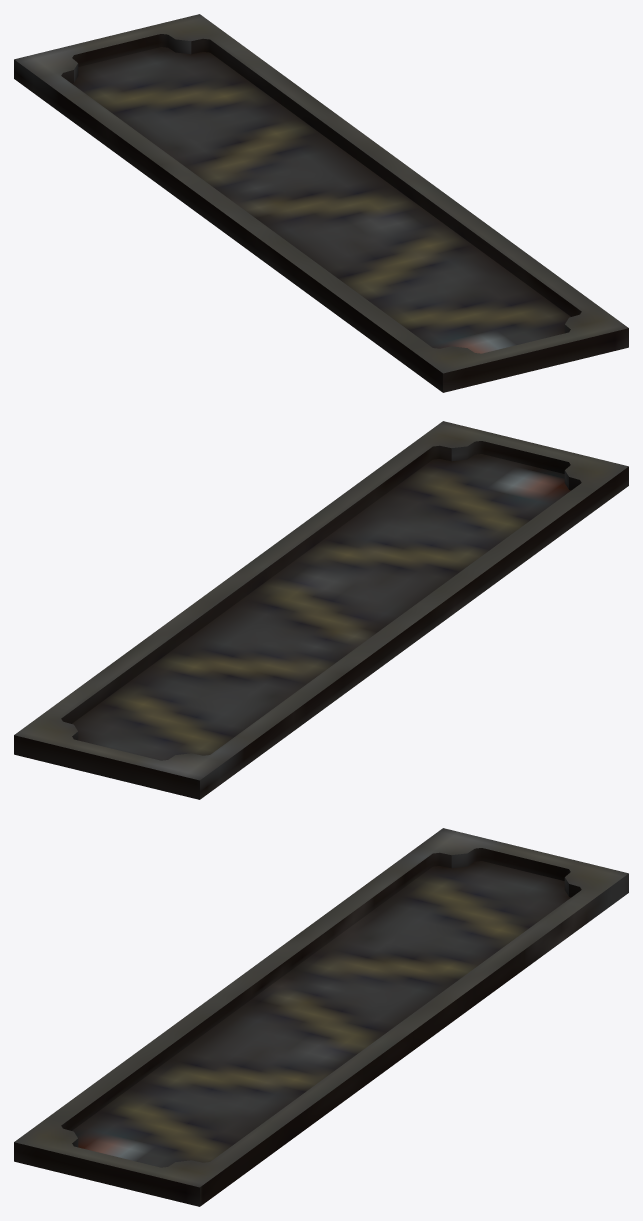
Rendered from Panel_14.FBX.
The picture shows the model from 3 angles, top to bottom: view 1: azimuth 30°, elevation 25°; view 2: azimuth 150°, elevation 25°; view 3: azimuth 330°, elevation 25°; orthographic projection.
Parts seen in each view (by area): view 1: Panel_14; view 2: Panel_14; view 3: Panel_14.
Part boxes in pixels (<box>): Panel_14: <box>14,14,628,392</box>; Panel_14: <box>14,421,628,799</box>; Panel_14: <box>14,828,628,1206</box>.
Bounding box in the file's own units: 50 × 5 × 200.
